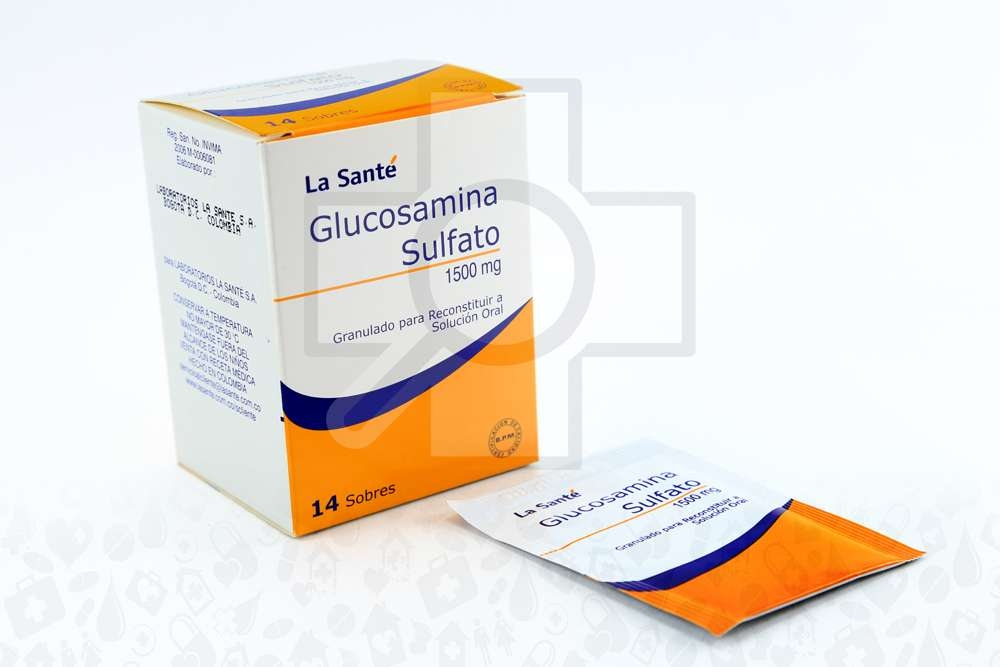LaSante: (274, 112, 533, 526)
